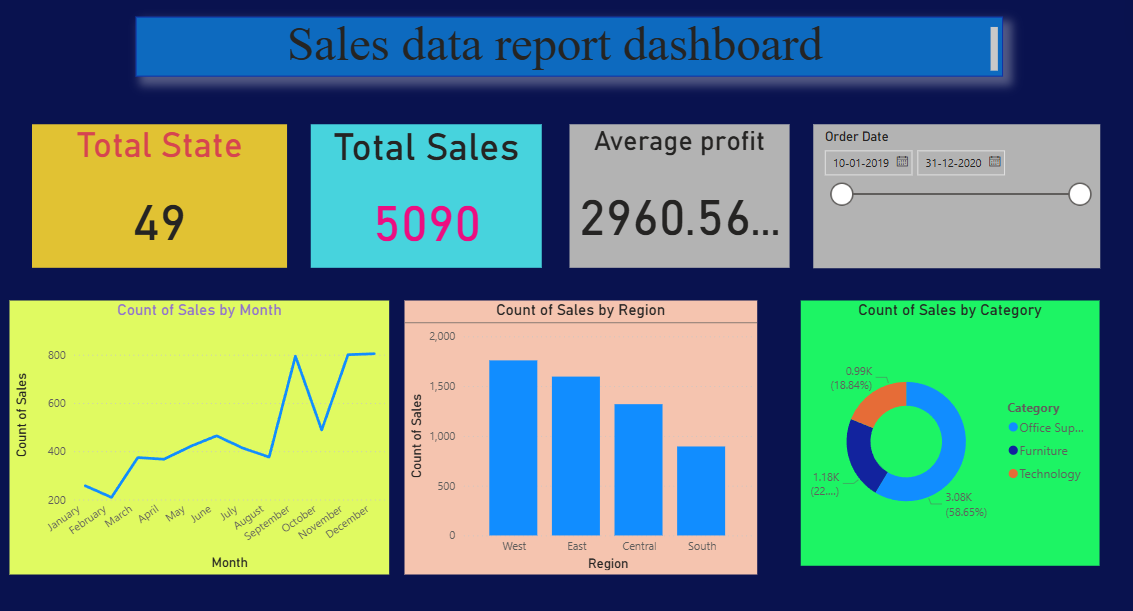

This screenshot's page, from the dashboard's own definition file:
{"tool":"powerbi","page":{"name":"Page 1","canvas":[1280,720],"ordinal":0},"visuals":[{"type":"card","title":"Total State","fields":{"Values":["Count(Sheet1.State)"]},"box":[49.4,144.1,279.9,157.8],"z":0},{"type":"textbox","box":[163.3,26.1,952.3,65.9],"z":1},{"type":"card","title":"Total Sales","fields":{"Values":["Count(Sheet1.Sales)"]},"box":[355.4,144.1,253.9,157.8],"z":2},{"type":"card","title":"Average profit","fields":{"Values":["Avg(Sheet1.Profit)"]},"box":[639.5,144.1,241.5,157.8],"z":3},{"type":"lineChart","fields":{"Y":["Count(Sheet1.Sales)"],"Category":["Sheet1.Ship Date.Variation.Date Hierarchy.Month"]},"box":[24.7,337.6,417.2,300.5],"z":4},{"type":"columnChart","fields":{"Y":["Count(Sheet1.Sales)"],"Category":["Sheet1.Region"]},"box":[458.3,337.6,387,300.5],"z":5},{"type":"donutChart","fields":{"Category":["Sheet1.Category"],"Y":["Count(Sheet1.Sales)"]},"box":[893.3,337.6,328,290.9],"z":6},{"type":"slicer","fields":{"Values":["Sheet1.Order Date"]},"box":[907,144.1,314.2,157.8],"z":7}]}

Visuals, with their boxes on the page's 1280x720 design canvas (x1, y1, x2, y2). These are canvas units, not pixel positions in the 1133x611 screenshot, which may show the page scaled, cropped or inside an application window:
"Total State" card: [49,144,329,302]
textbox: [163,26,1116,92]
"Total Sales" card: [355,144,609,302]
"Average profit" card: [640,144,881,302]
lineChart - Count(Sheet1.Sales) x Sheet1.Ship Date.Variation.Date Hierarchy.Month: [25,338,442,638]
columnChart - Count(Sheet1.Sales) x Sheet1.Region: [458,338,845,638]
donutChart - Sheet1.Category x Count(Sheet1.Sales): [893,338,1221,628]
slicer - Sheet1.Order Date: [907,144,1221,302]
